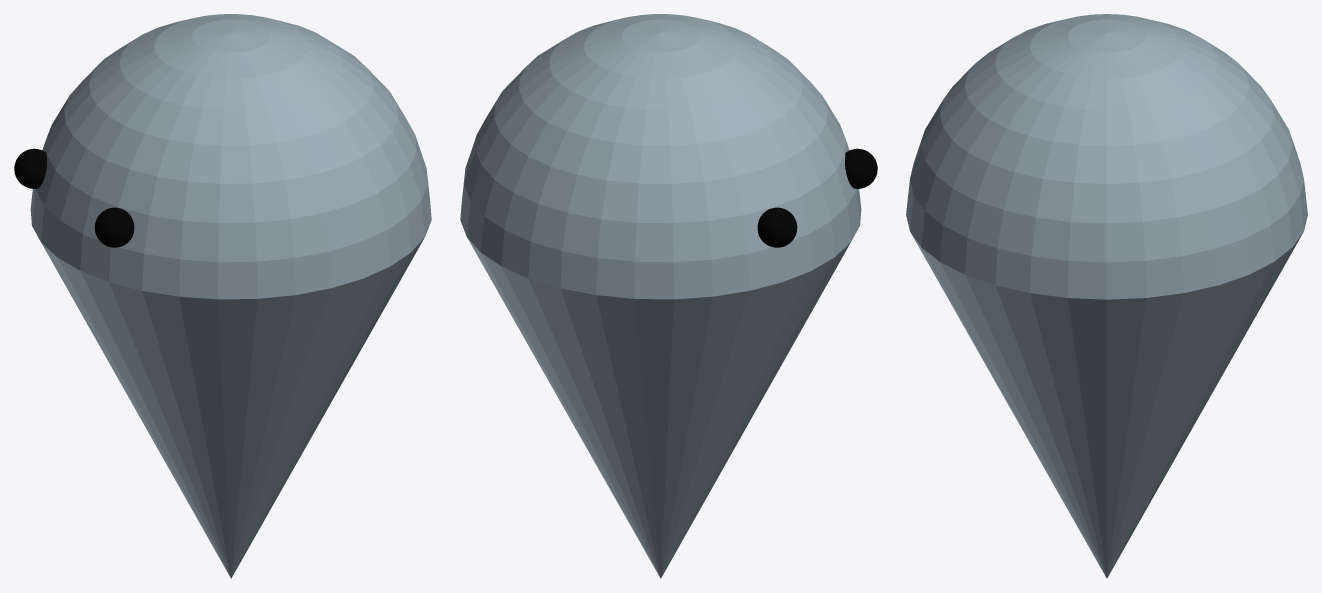
Rendered from bossGrayEnemy.obj.
3 renders of one model, left to right at view 1: azimuth 30°, elevation 25°; view 2: azimuth 150°, elevation 25°; view 3: azimuth 270°, elevation 25°, orthographic.
Visible parts, largest first — view 1: 頭_球, 胴体, 眼球R, 眼球L; view 2: 頭_球, 胴体, 眼球L, 眼球R; view 3: 頭_球, 胴体.
Boxes of the visible parts, left/top/right/bottom form: 頭_球: left=30, top=14, right=431, bottom=299; 胴体: left=41, top=237, right=424, bottom=578; 眼球R: left=94, top=207, right=134, bottom=247; 眼球L: left=14, top=148, right=46, bottom=188; 頭_球: left=460, top=14, right=861, bottom=299; 胴体: left=467, top=237, right=850, bottom=578; 眼球L: left=757, top=207, right=797, bottom=247; 眼球R: left=845, top=148, right=877, bottom=188; 頭_球: left=906, top=14, right=1307, bottom=299; 胴体: left=910, top=232, right=1303, bottom=578.
Size of the model in its own units: 4 by 6 by 4.
